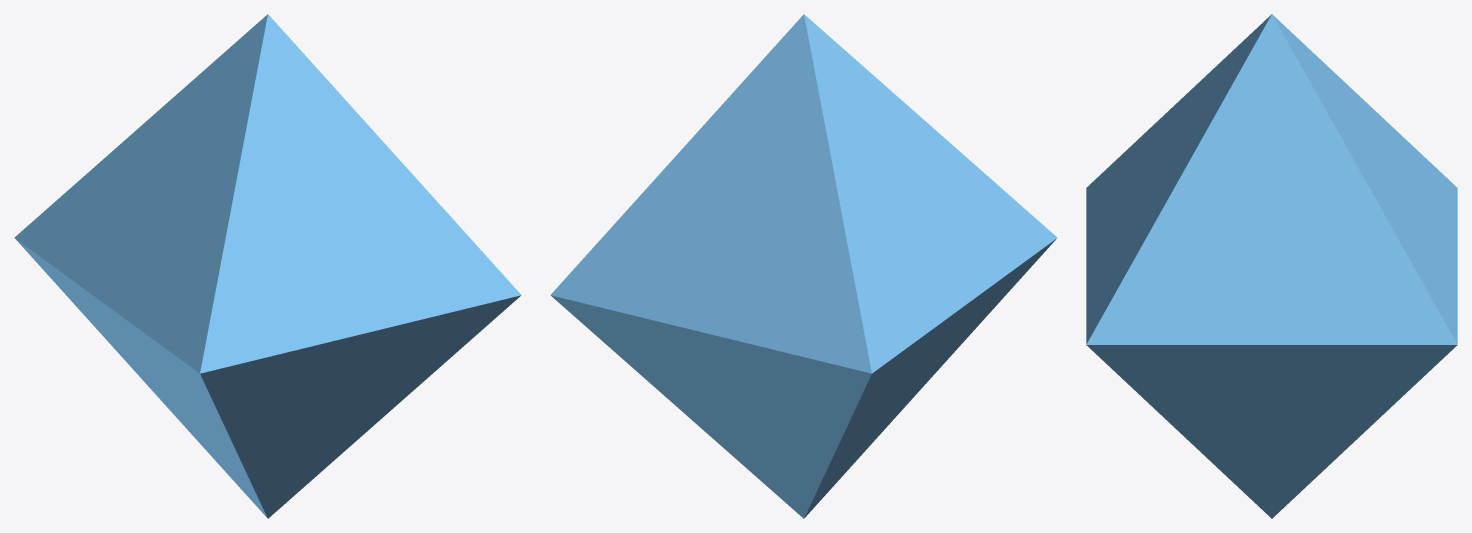
The model's file is demo.glb.
The picture shows the model from 3 angles, left to right: view 1: azimuth 30°, elevation 25°; view 2: azimuth 150°, elevation 25°; view 3: azimuth 270°, elevation 25°; orthographic projection.
Parts seen in each view (by area): view 1: DemoCrystal; view 2: DemoCrystal; view 3: DemoCrystal.
Boxes of the visible parts, x1,y1,x2,y2 form: DemoCrystal: (14, 14, 521, 518); DemoCrystal: (550, 14, 1057, 518); DemoCrystal: (1086, 14, 1457, 518).
Size of the model in its own units: 1.6 by 2.4 by 1.6.
